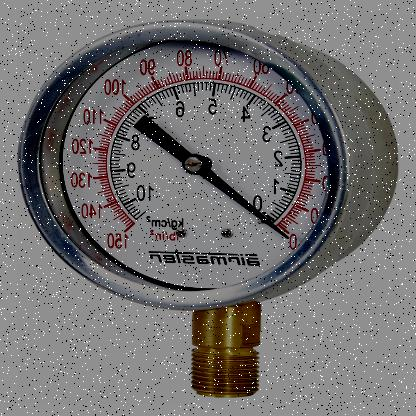needle: (198, 167, 292, 241)
